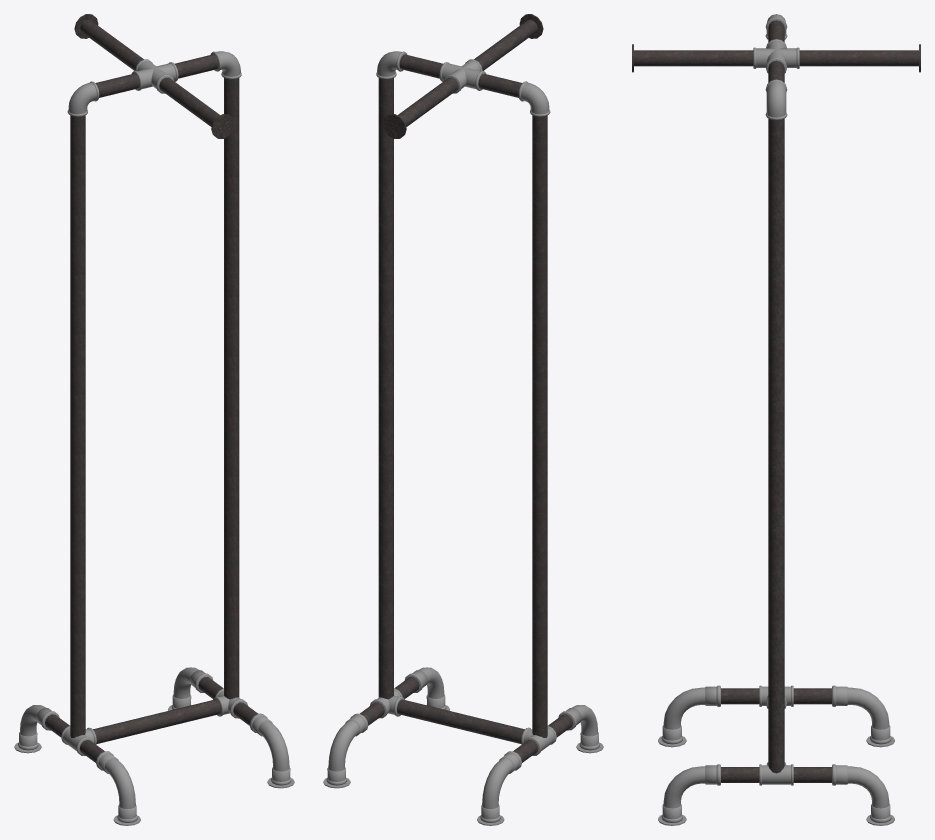
3 renders of one model, left to right at view 1: azimuth 30°, elevation 25°; view 2: azimuth 150°, elevation 25°; view 3: azimuth 270°, elevation 25°, orthographic. The views are drawn at different scales.
Visible parts, largest first — view 1: tubo2_006, tubo_codo006; view 2: tubo2_006, tubo_codo006; view 3: tubo2_006, tubo_codo006.
Boxes of the visible parts, left/top/right/bottom form: tubo2_006: left=45, top=14, right=257, bottom=762; tubo_codo006: left=14, top=51, right=294, bottom=825; tubo2_006: left=360, top=14, right=572, bottom=762; tubo_codo006: left=323, top=51, right=603, bottom=825; tubo2_006: left=632, top=20, right=920, bottom=782; tubo_codo006: left=658, top=14, right=894, bottom=825.
Bounding box in the file's own units: 0.3725 × 1.4 × 0.5.
2 materials, 1 textured.
